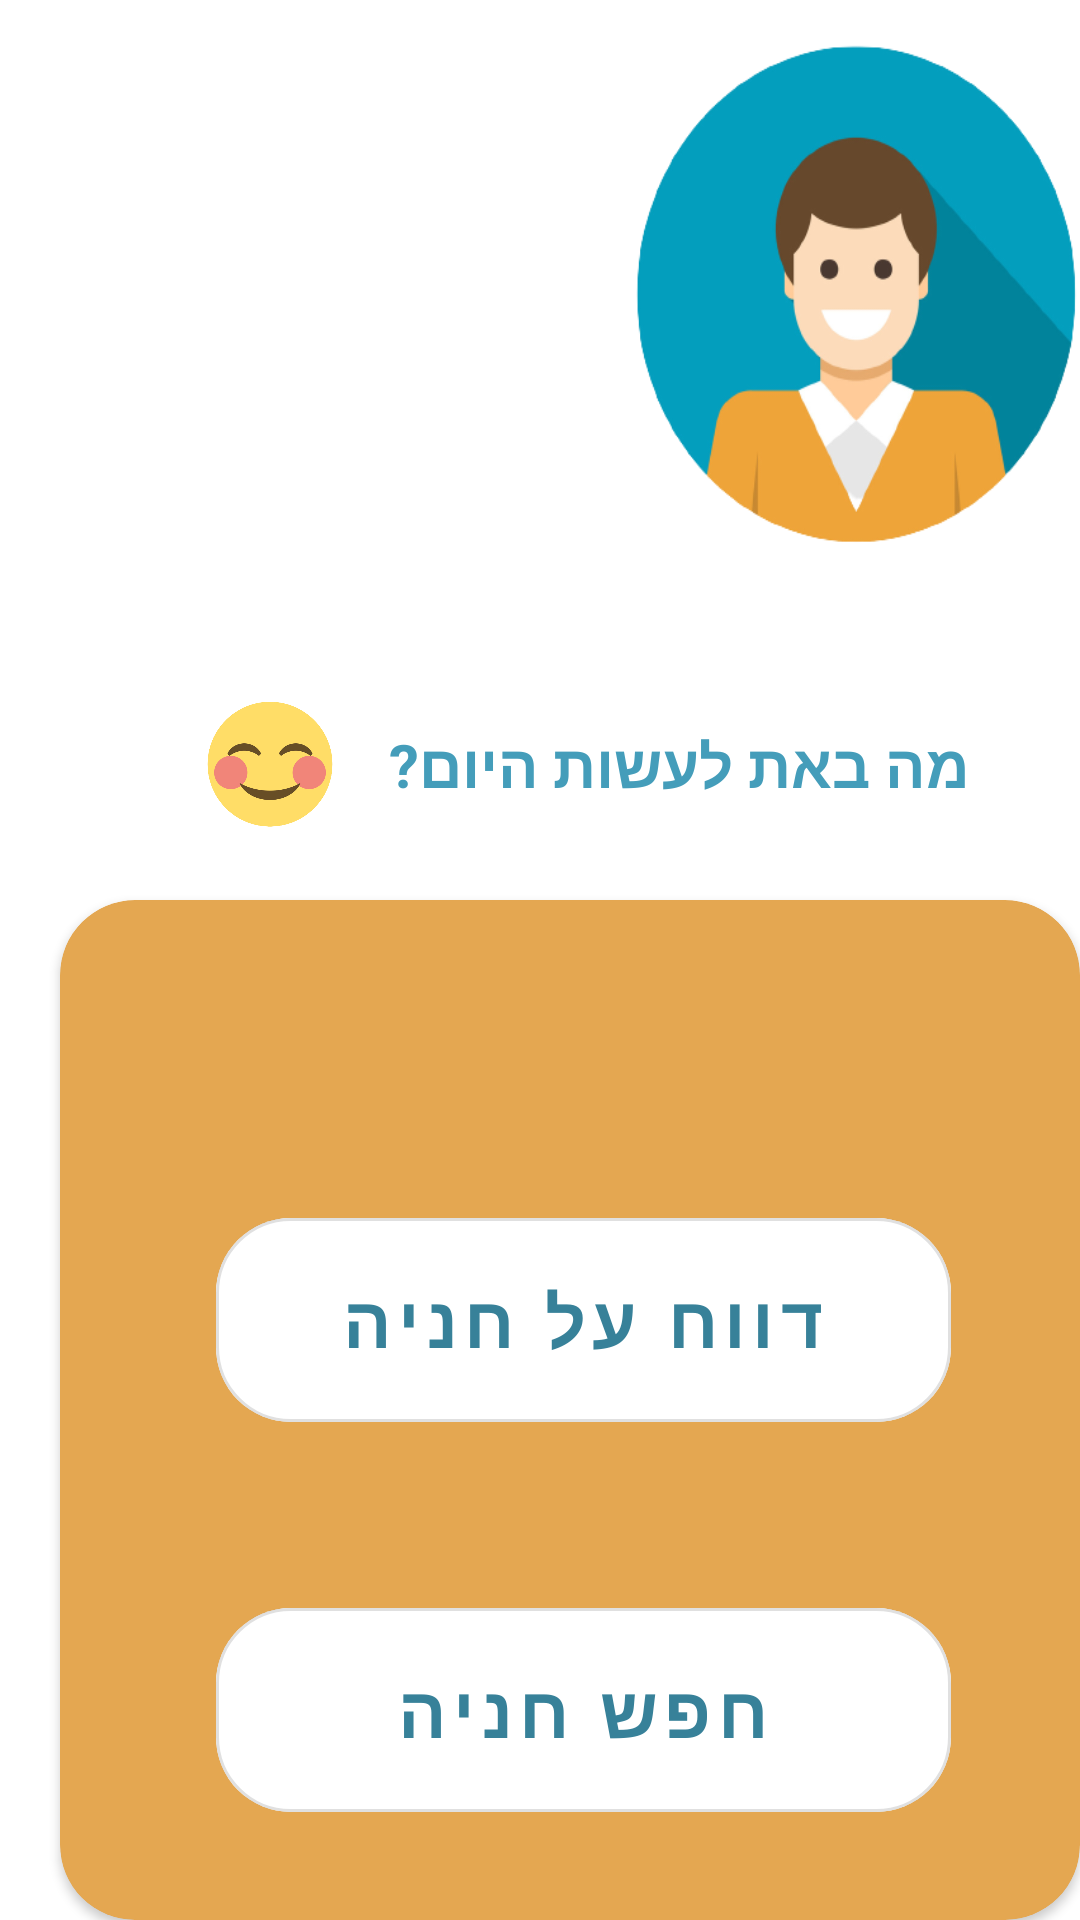

Where to tap for icons on this 1080w x 1920h app screen, as (x=x, y=y):
smileyicon: (x=270, y=764)
